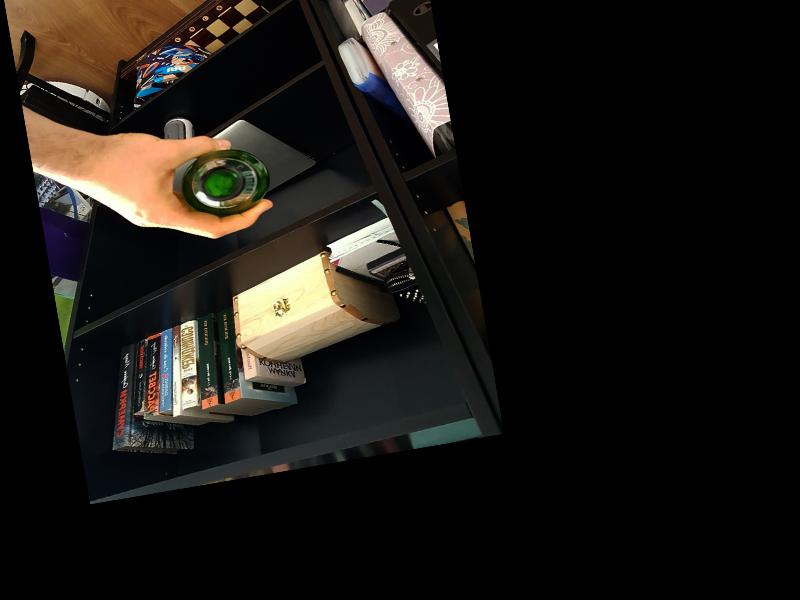Beer: (178, 142, 269, 221)
